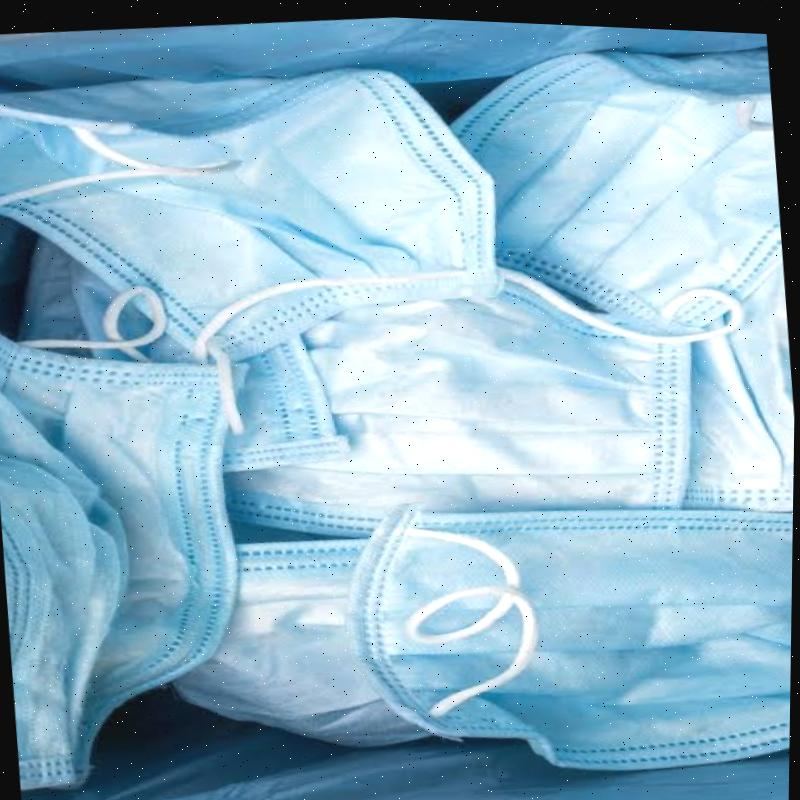facemask: (0, 67, 503, 360), (231, 286, 693, 538), (350, 508, 793, 770), (0, 328, 242, 791), (453, 48, 783, 336), (174, 539, 426, 745), (685, 255, 794, 510)
